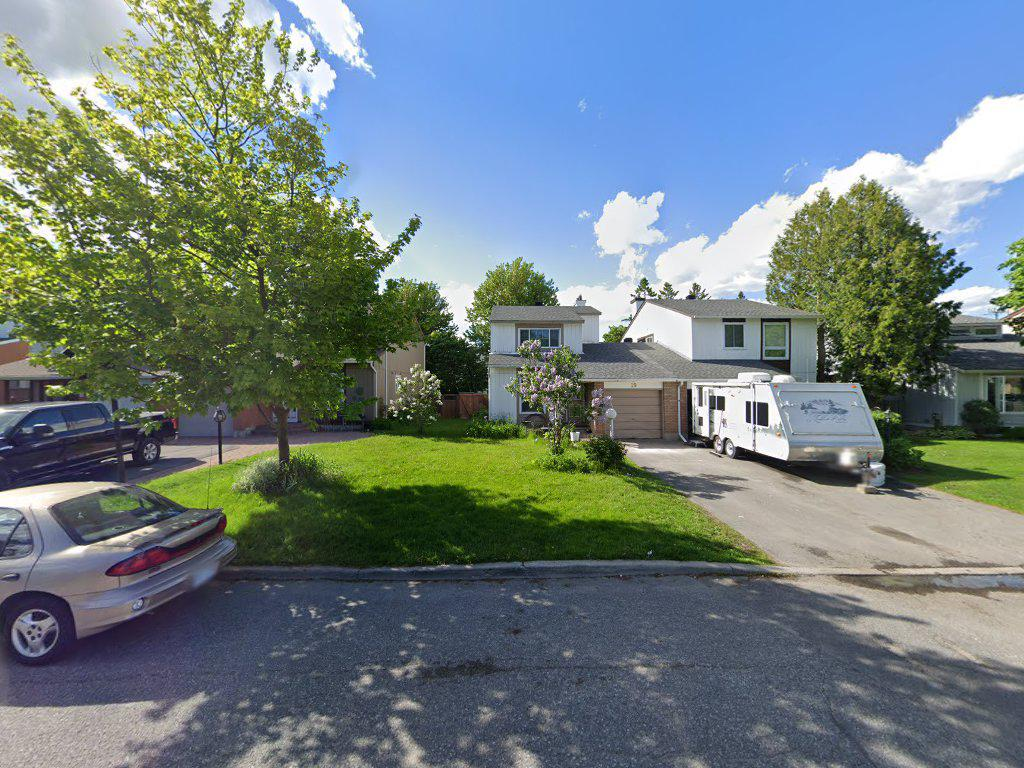trunk: (273, 404, 295, 487)
